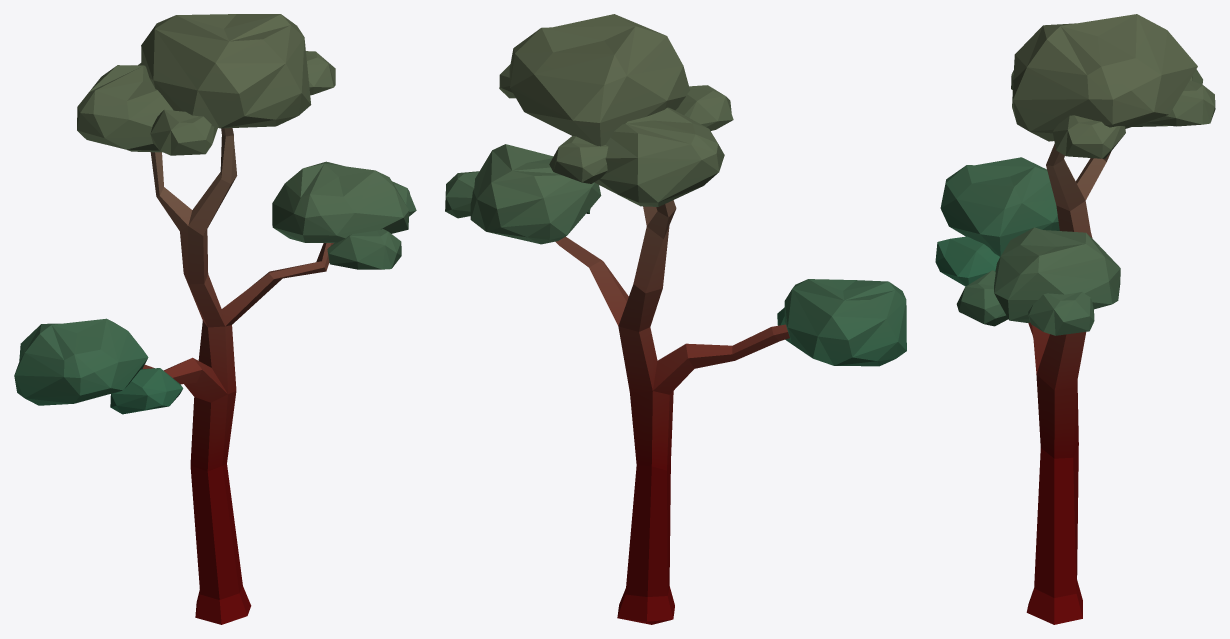
Rendered from synty-tree-tallround-01.gltf.
3 views of the same model, side by side, from view 1: azimuth 30°, elevation 25°; view 2: azimuth 150°, elevation 25°; view 3: azimuth 270°, elevation 25° (orthographic). The views are drawn at different scales.
Visible parts, largest first — view 1: SM_Tree_TallRound_01; view 2: SM_Tree_TallRound_01; view 3: SM_Tree_TallRound_01.
Part boxes in pixels (x1,y1,x2,y2): SM_Tree_TallRound_01: (14,14,416,624); SM_Tree_TallRound_01: (445,14,906,624); SM_Tree_TallRound_01: (935,14,1215,624).
Bounding box in the file's own units: 4.78 × 6.36 × 2.68.
1 material, 1 textured.
